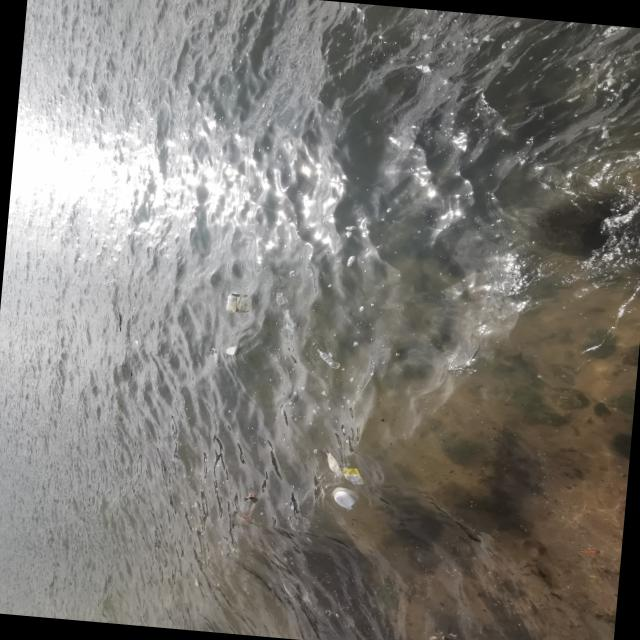foam: (331, 487, 361, 511), (225, 344, 241, 355)
plastic bottle: (316, 348, 342, 368), (227, 293, 239, 312)
